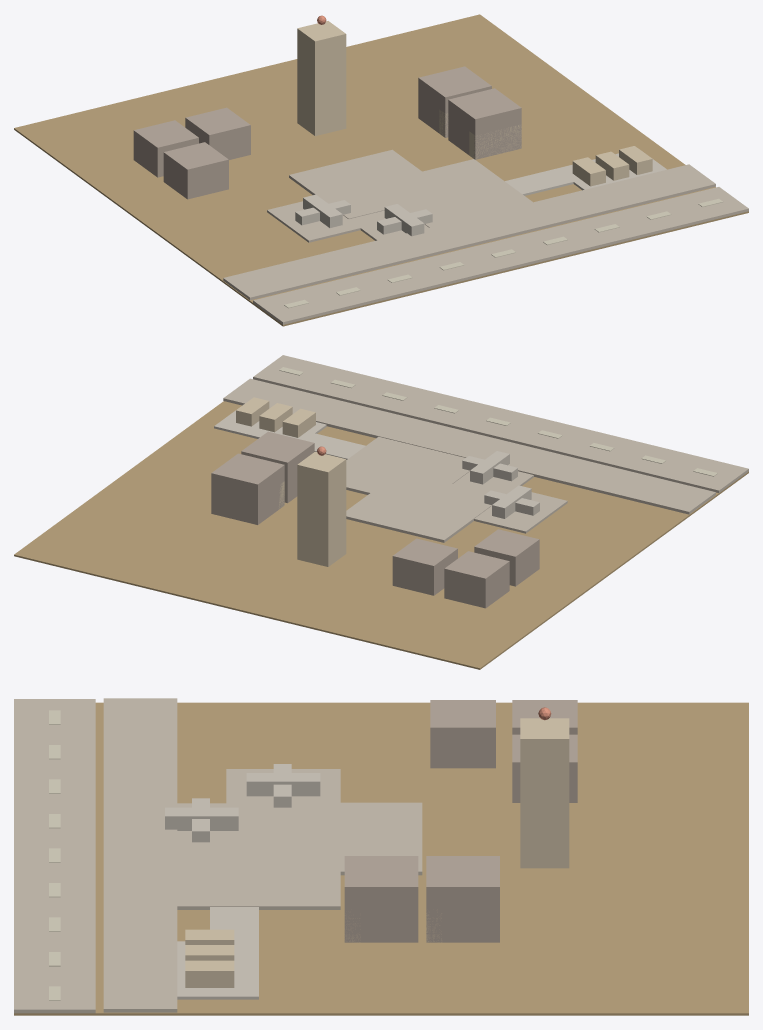
Rendered from stage_13.glb.
3 renders of one model, top to bottom at view 1: azimuth 30°, elevation 25°; view 2: azimuth 150°, elevation 25°; view 3: azimuth 270°, elevation 25°, orthographic. The views are drawn at different scales.
Visible parts, largest first — view 1: geometry_0; view 2: geometry_0; view 3: geometry_0.
Boxes of the visible parts, x1=… form: geometry_0: x1=14, y1=14, x2=748, y2=326; geometry_0: x1=14, y1=355, x2=748, y2=669; geometry_0: x1=14, y1=698, x2=748, y2=1015.
Bounding box in the file's own units: 9 × 2.06 × 9.
